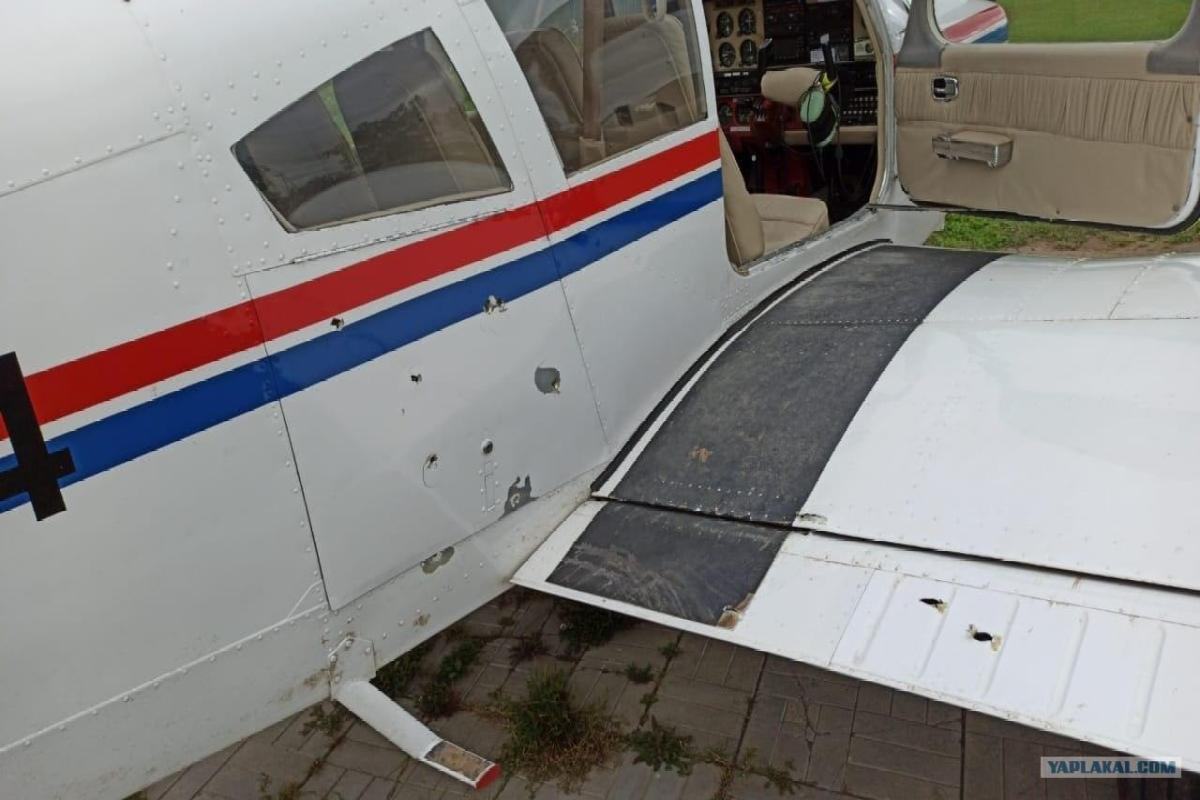Fuselage_damage: (494, 472, 540, 524), (964, 622, 1006, 654), (418, 545, 458, 578), (531, 362, 564, 398), (419, 450, 444, 491), (479, 291, 510, 319), (916, 595, 950, 616), (407, 368, 425, 388), (328, 314, 348, 332)
